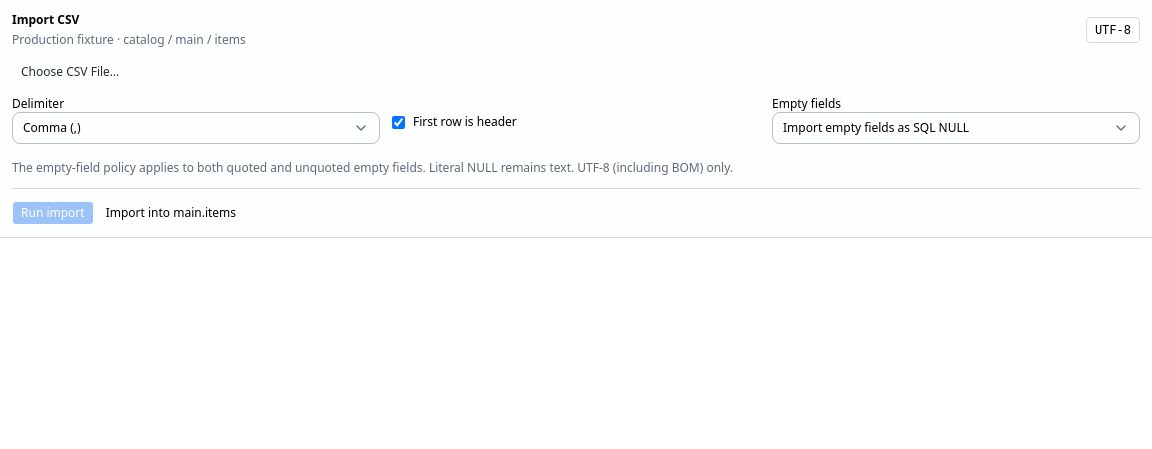
Test: CSV import workflow › shows preview errors inline and prevents import after an unsuccessful reparse
Click the button "Choose CSV File…". click: (70, 72)
box: [12,60,128,84]
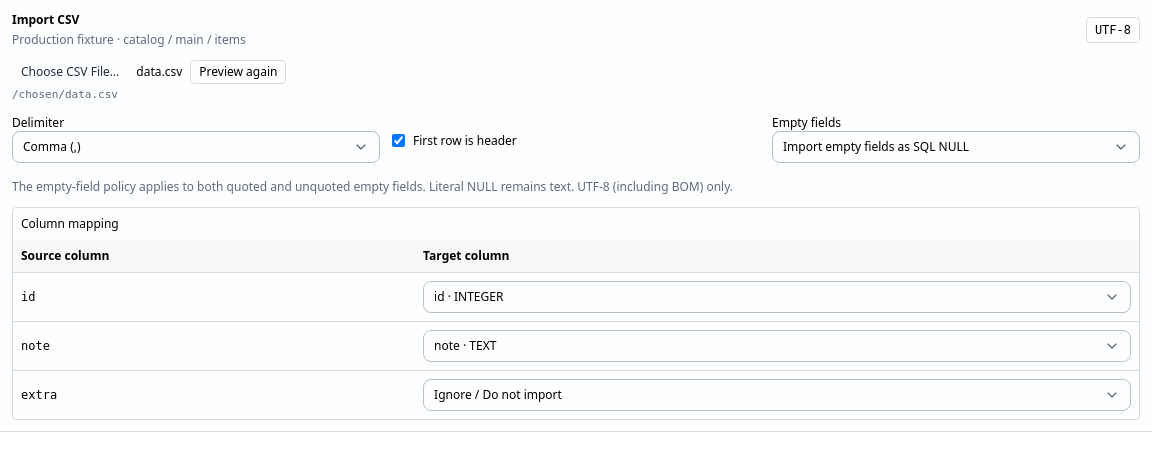
Now the text "Column mapping" is shown, box [21,215,119,232]
Click the button "Choose CSV File…". click: (70, 72)
box: [12,60,128,84]
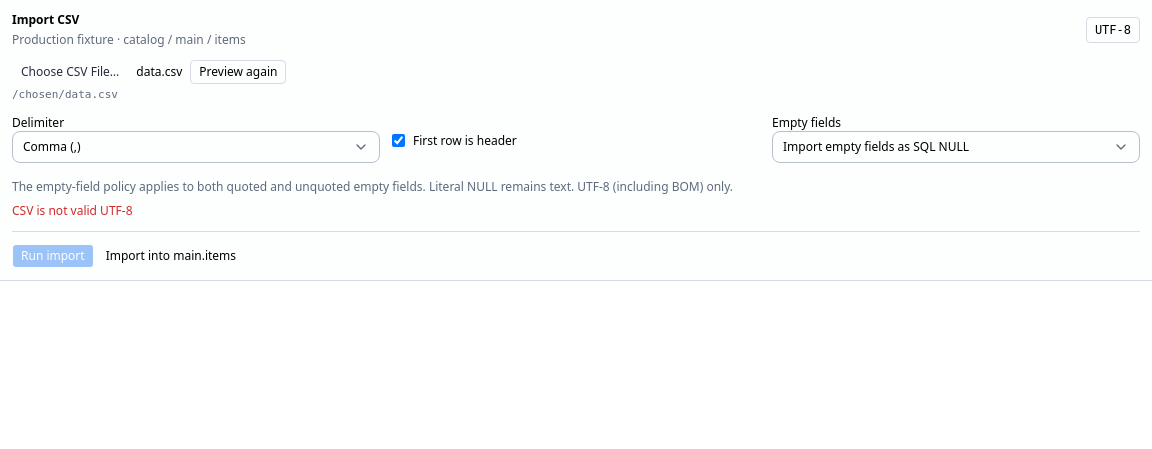
Now the message reads "CSV is not valid UTF-8", box [12,202,132,219]
Now the button "Run import" is disabled, box [12,244,94,268]
Now the text "Column mapping" is gone
